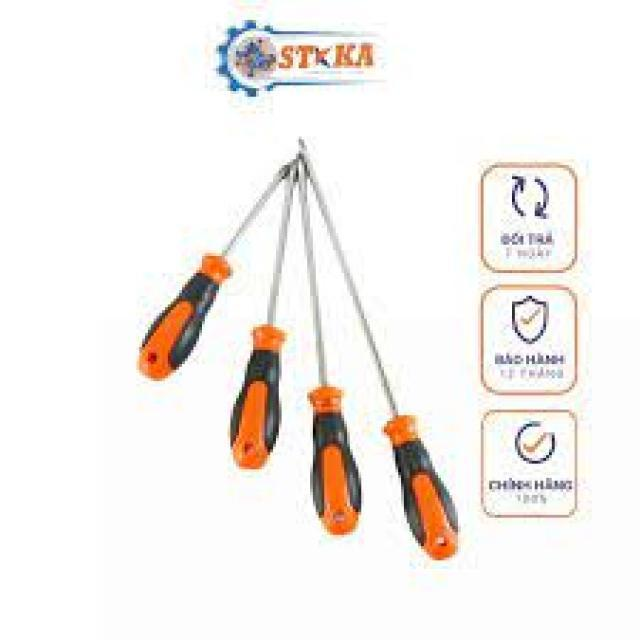screwdriver: (296, 119, 464, 566), (131, 158, 296, 382), (296, 147, 364, 548), (224, 159, 302, 472)
